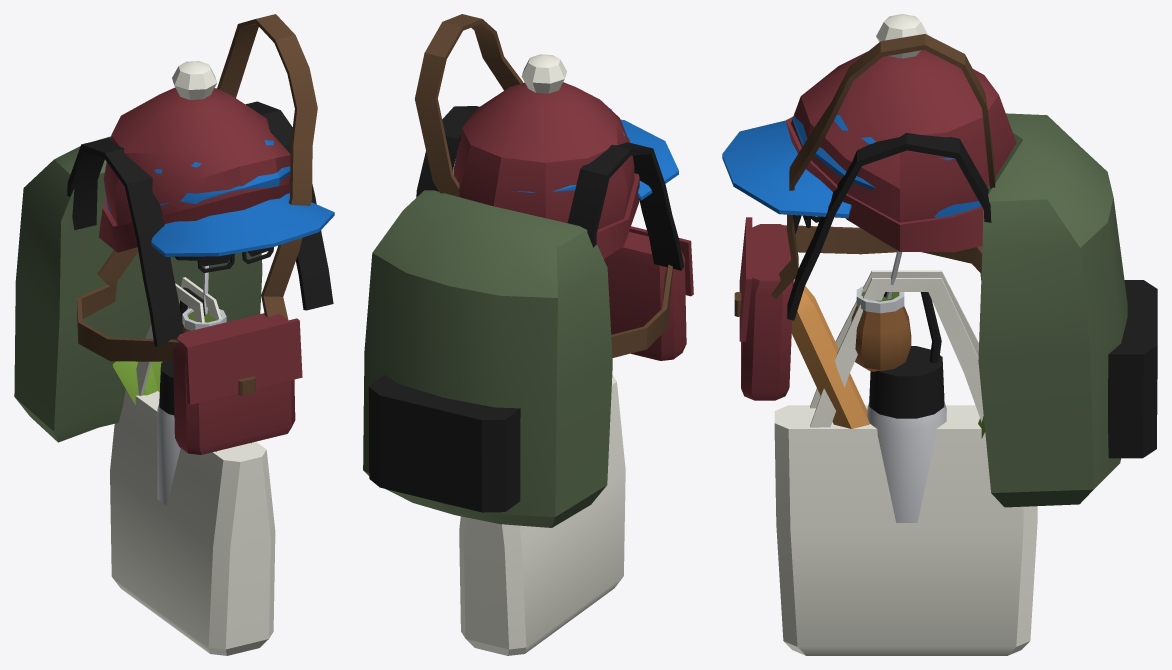
Rendered from accesorios_persona.glb.
The picture shows the model from 3 angles, left to right: view 1: azimuth 30°, elevation 25°; view 2: azimuth 150°, elevation 25°; view 3: azimuth 270°, elevation 25°; orthographic projection. The views are drawn at different scales.
Visible parts, largest first — view 1: acc_mochila, acc_bolsa_mandados, acc_bolso_cruzado, acc_gorro_lana, acc_gorra, acc_termo, acc_mate, acc_anteojos_lectura; view 2: acc_mochila, acc_bolsa_mandados, acc_gorro_lana, acc_bolso_cruzado, acc_gorra; view 3: acc_bolsa_mandados, acc_mochila, acc_gorro_lana, acc_bolso_cruzado, acc_termo, acc_gorra, acc_mate.
Boxes of the visible parts, x1,y1,x2,y2 form: acc_mochila: (14, 101, 333, 442); acc_bolsa_mandados: (110, 277, 275, 655); acc_bolso_cruzado: (77, 14, 317, 454); acc_gorro_lana: (98, 61, 290, 252); acc_gorra: (106, 140, 334, 256); acc_termo: (157, 287, 205, 505); acc_mate: (182, 265, 226, 332); acc_anteojos_lectura: (174, 247, 273, 272); acc_mochila: (363, 106, 684, 527); acc_bolsa_mandados: (459, 375, 625, 655); acc_gorro_lana: (453, 54, 639, 258); acc_bolso_cruzado: (415, 14, 693, 360); acc_gorra: (457, 108, 678, 200); acc_bolsa_mandados: (774, 270, 1037, 655); acc_mochila: (787, 113, 1157, 507); acc_gorro_lana: (785, 14, 1016, 252); acc_bolso_cruzado: (734, 34, 995, 400); acc_termo: (867, 292, 946, 522); acc_gorra: (722, 115, 981, 218); acc_mate: (851, 250, 911, 371).
Size of the model in its own units: 0.3113 by 0.8083 by 0.4937.
